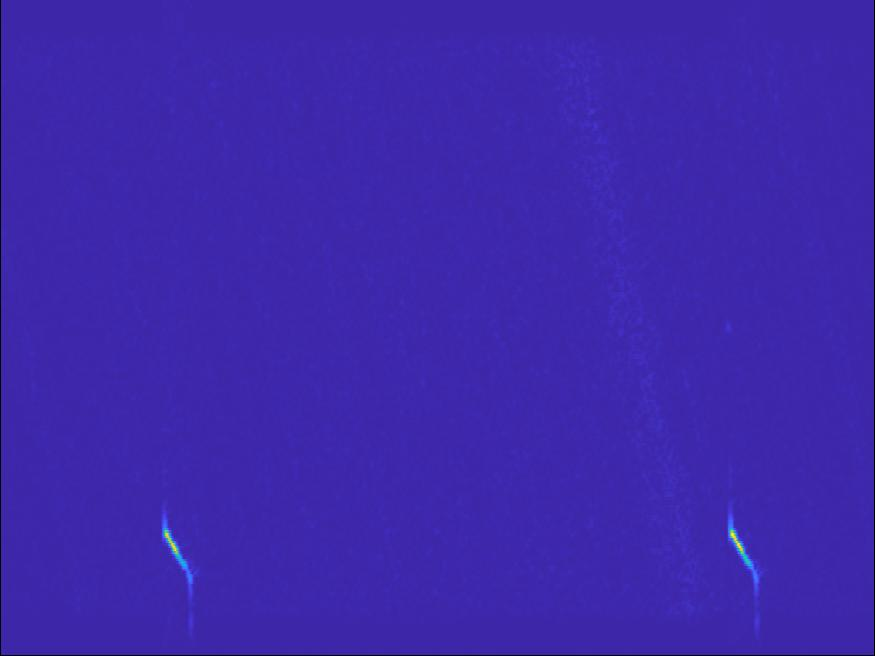Interference: (389, 368, 598, 543), (561, 106, 673, 148), (12, 305, 102, 344)
